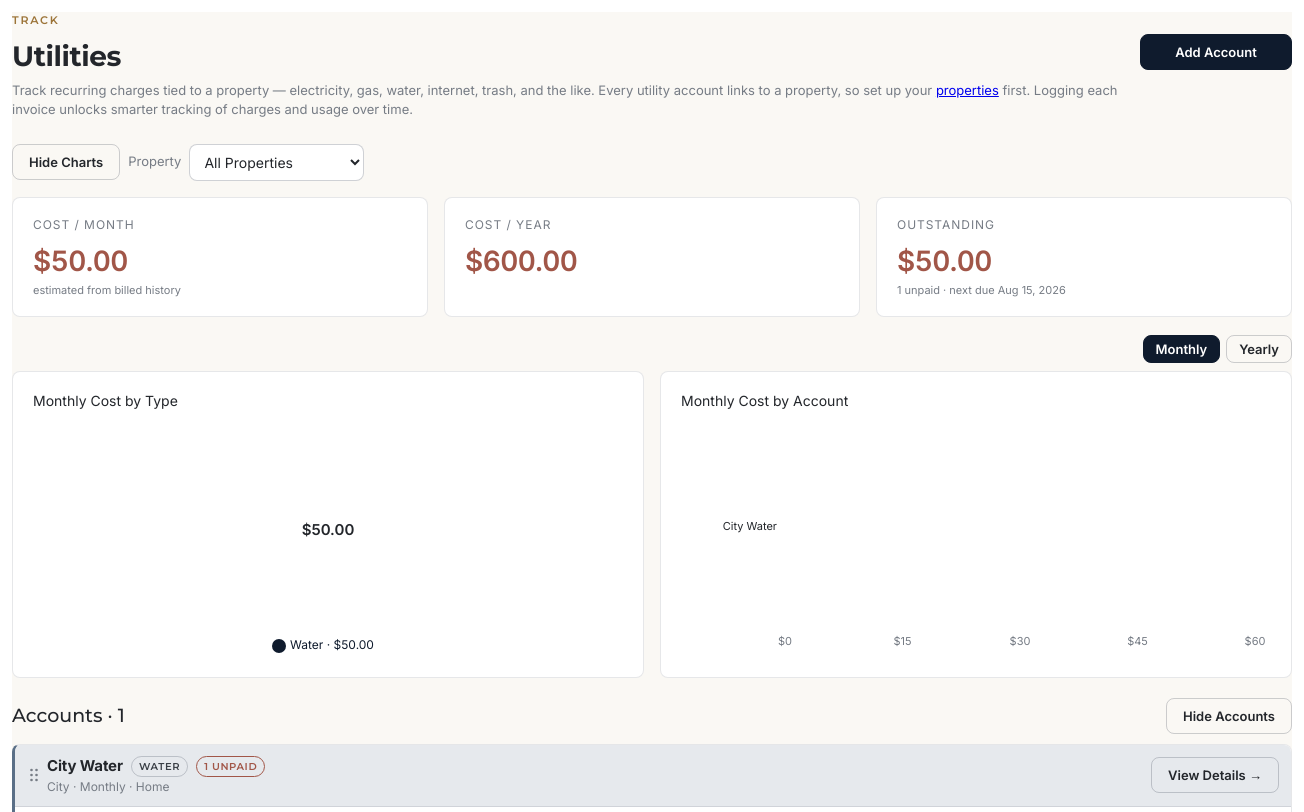
Test: Utilities page › switches the chart view to yearly
Click the button "Yearly".
click(1259, 349)  # box [1226,335,1292,363]
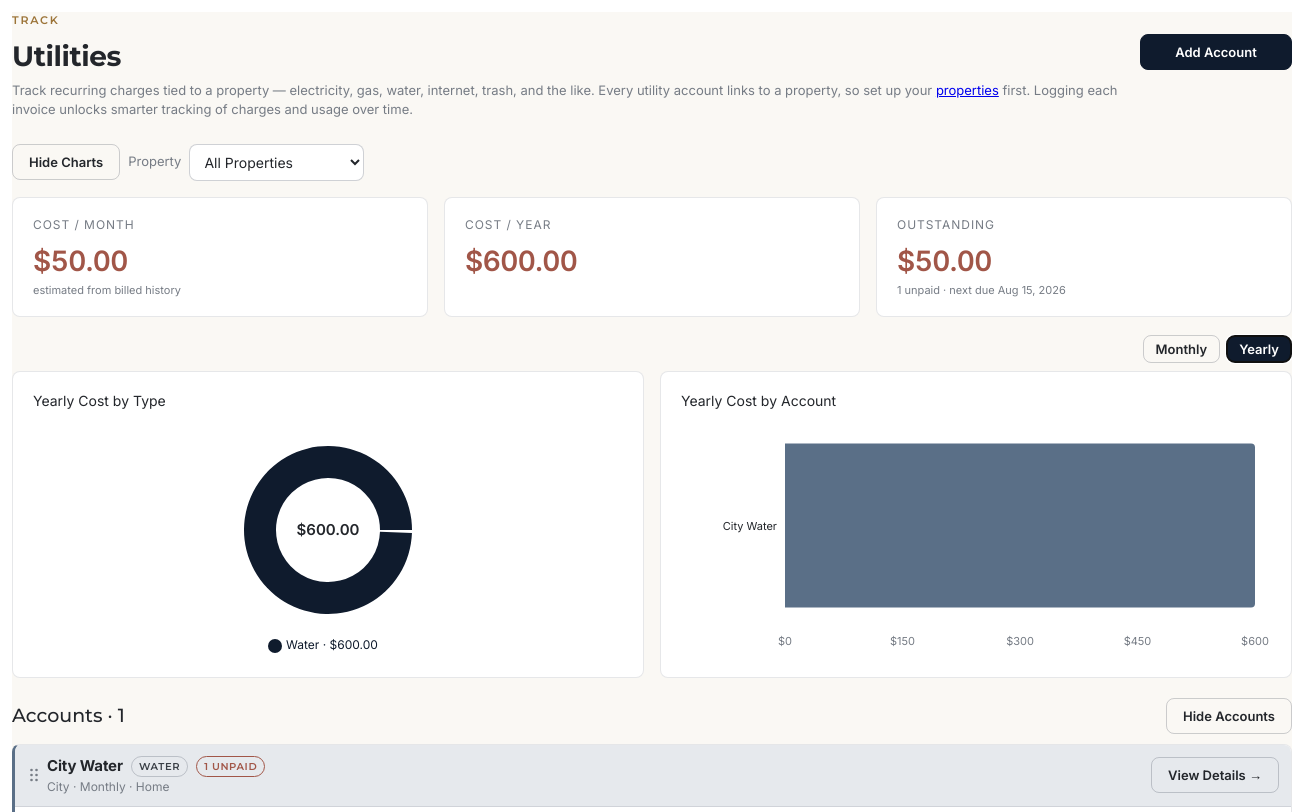
Check: the text "Yearly Cost by Type" is shown, box [33,392,166,409]
